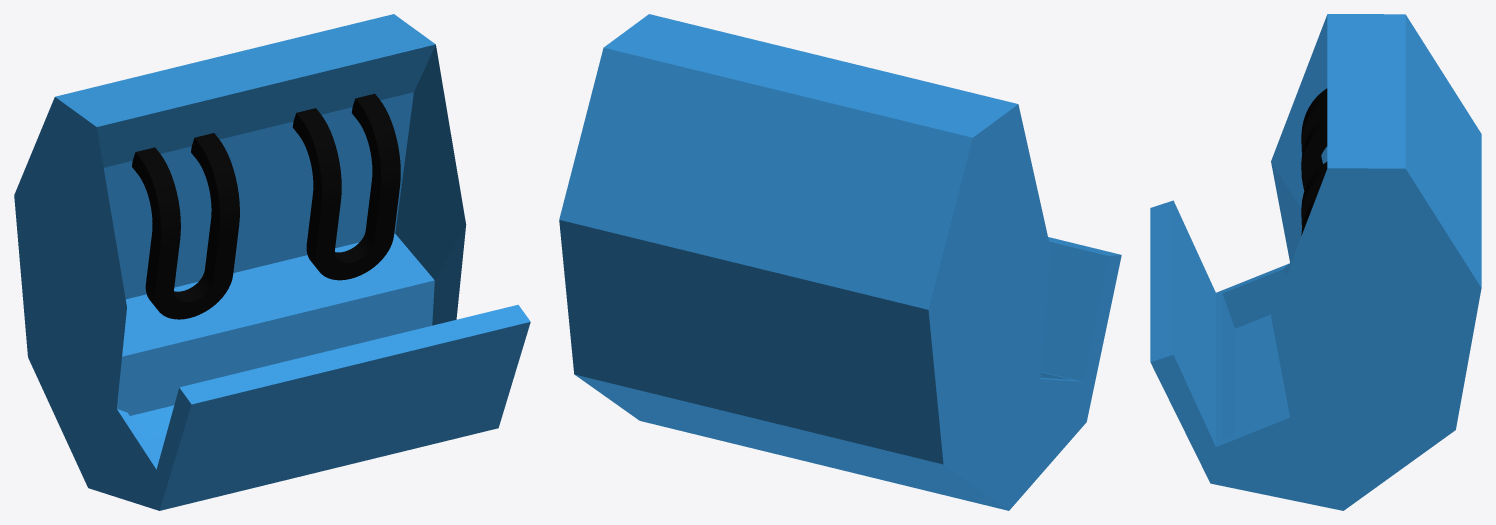
Rendered from shaker_gondel.glb.
3 views of the same model, side by side, from view 1: azimuth 30°, elevation 25°; view 2: azimuth 150°, elevation 25°; view 3: azimuth 270°, elevation 25° (orthographic). The views are drawn at different scales.
Parts seen in each view (by area): view 1: gondel.001; view 2: gondel.001; view 3: gondel.001.
Boxes of the visible parts, x1,y1,x2,y2 form: gondel.001: (14, 14, 530, 510); gondel.001: (559, 14, 1121, 510); gondel.001: (1150, 14, 1481, 510).
Bounding box in the file's own units: 2.44 × 2.52 × 2.21.
